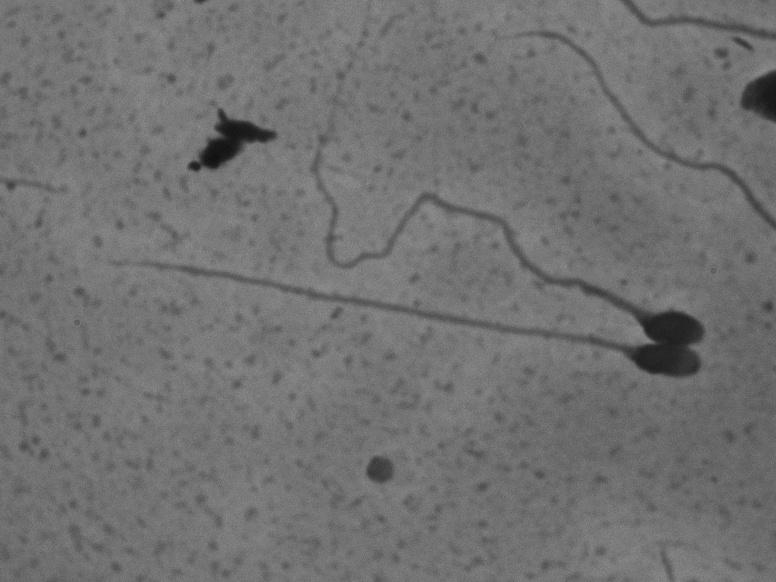Abnormal: (296, 83, 711, 349), (115, 246, 712, 389)
